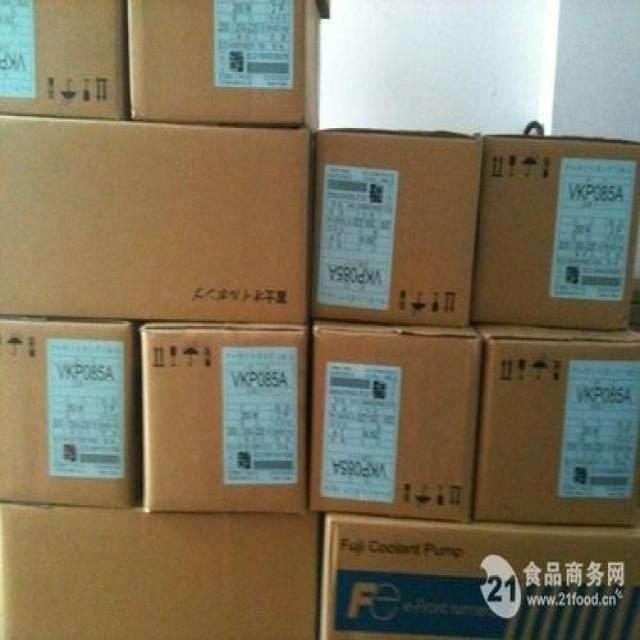box: (0, 116, 318, 325), (0, 488, 322, 638), (314, 514, 638, 638), (310, 320, 482, 520), (310, 131, 483, 326), (474, 322, 639, 526), (468, 135, 639, 329), (139, 324, 307, 514), (0, 319, 141, 509), (127, 2, 329, 134), (0, 0, 131, 119)
